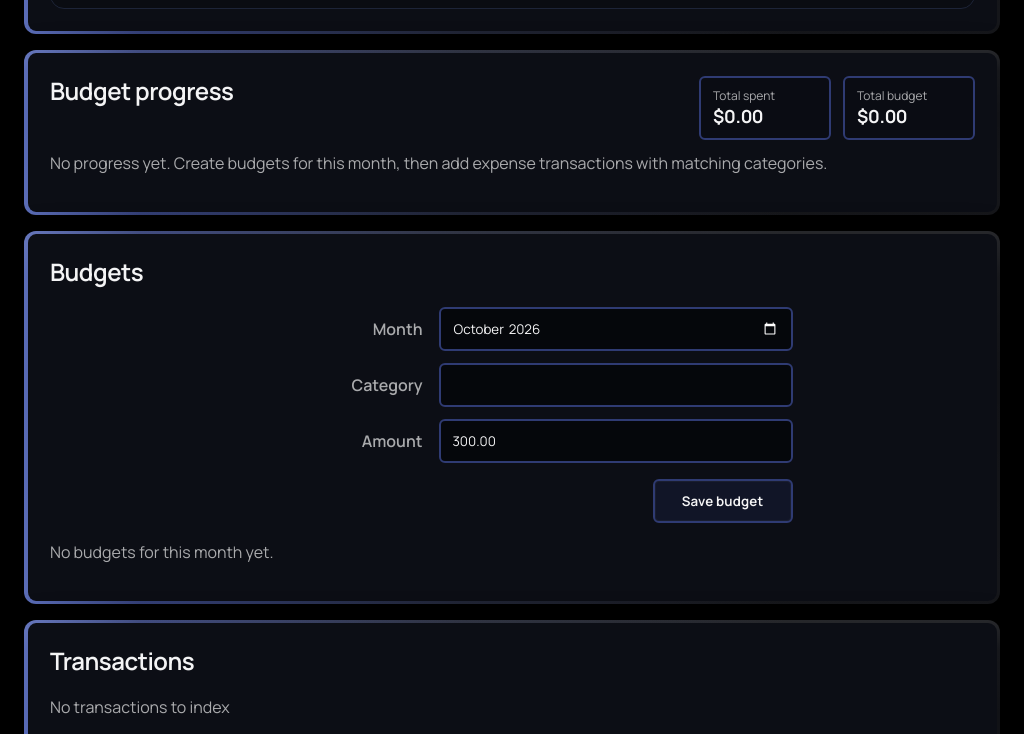
it: dashboard correctness › reports a successful budget save clearly when its refresh fails
The width and height of the screenshot is (1024, 734).
(page scrolled)
Check: the element "Budgets" is shown, box [24, 231, 1000, 604]
Type "Food" into the field labelled "Category".
click(616, 385); type("Food")  # box [438, 363, 792, 407]
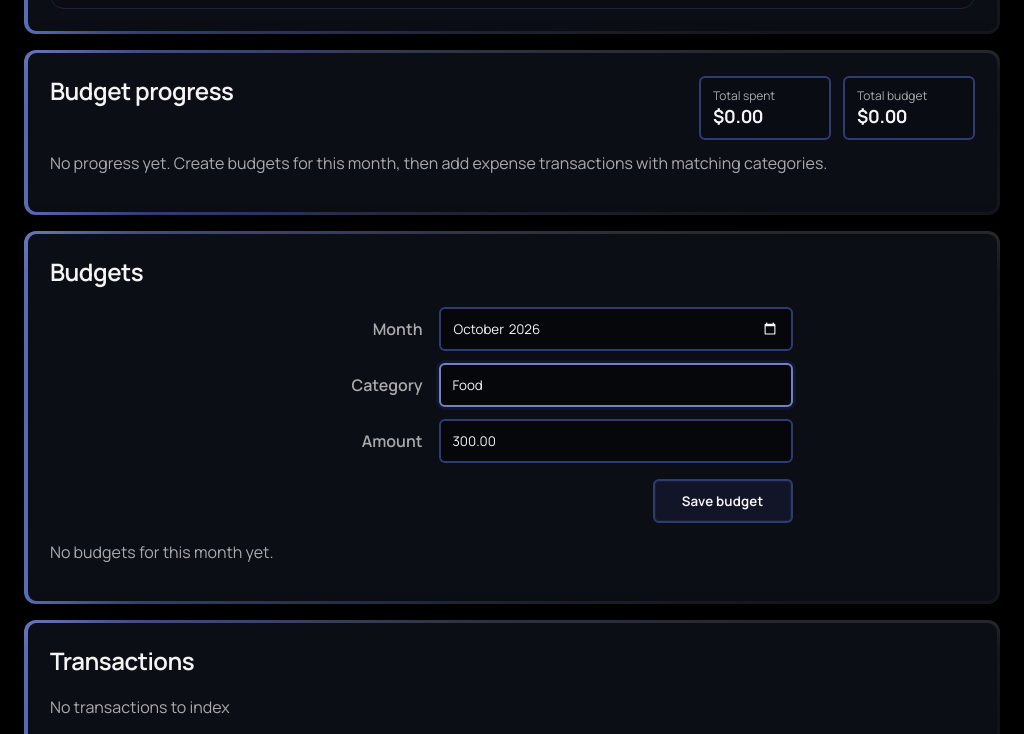
Click the button "Save budget".
click(722, 501)  # box [652, 479, 792, 523]
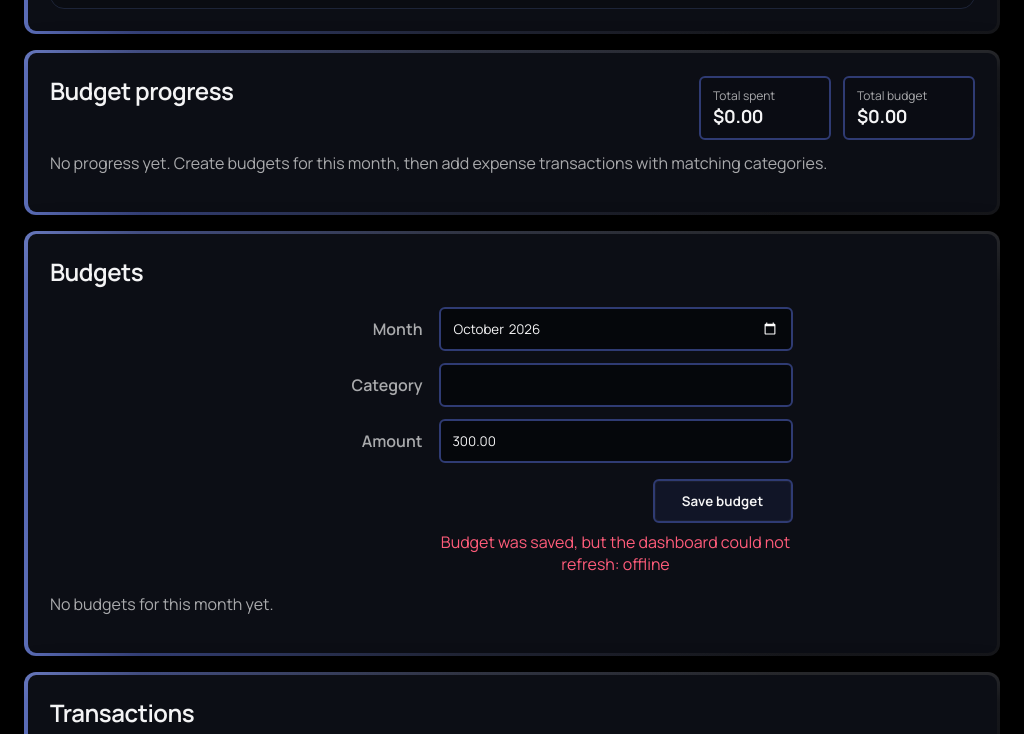
Check: the message reads "Budget was saved, but the dashboard could not refresh: offline", box [441, 531, 790, 575]
